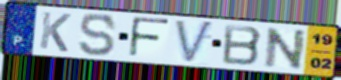B: (220, 23, 264, 67)
F: (126, 15, 172, 60)
K: (37, 10, 73, 54)
N: (263, 27, 308, 72)
S: (79, 13, 119, 58)
V: (173, 18, 216, 66)
